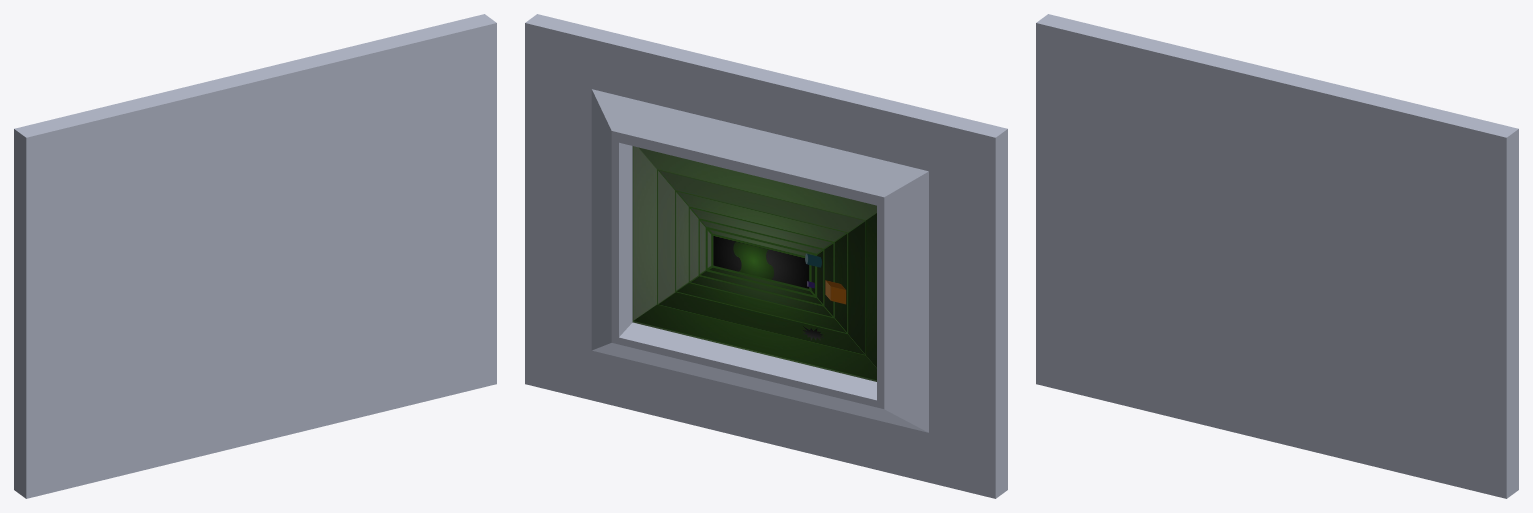
File: IDK_Art.fbx
The picture shows the model from 3 angles, left to right: view 1: azimuth 30°, elevation 25°; view 2: azimuth 150°, elevation 25°; view 3: azimuth 330°, elevation 25°; orthographic projection.
Parts seen in each view (by area): view 1: IDK; view 2: IDK, Image.012; view 3: IDK.
Boxes of the visible parts, x1=… form: IDK: x1=14, y1=14, x2=496, y2=498; IDK: x1=525, y1=14, x2=1007, y2=498; Image.012: x1=632, y1=146, x2=876, y2=381; IDK: x1=1036, y1=14, x2=1518, y2=498.
Bounding box in the file's own units: 1445 × 1060 × 131.
Materials: 2 (1 with a texture image).
